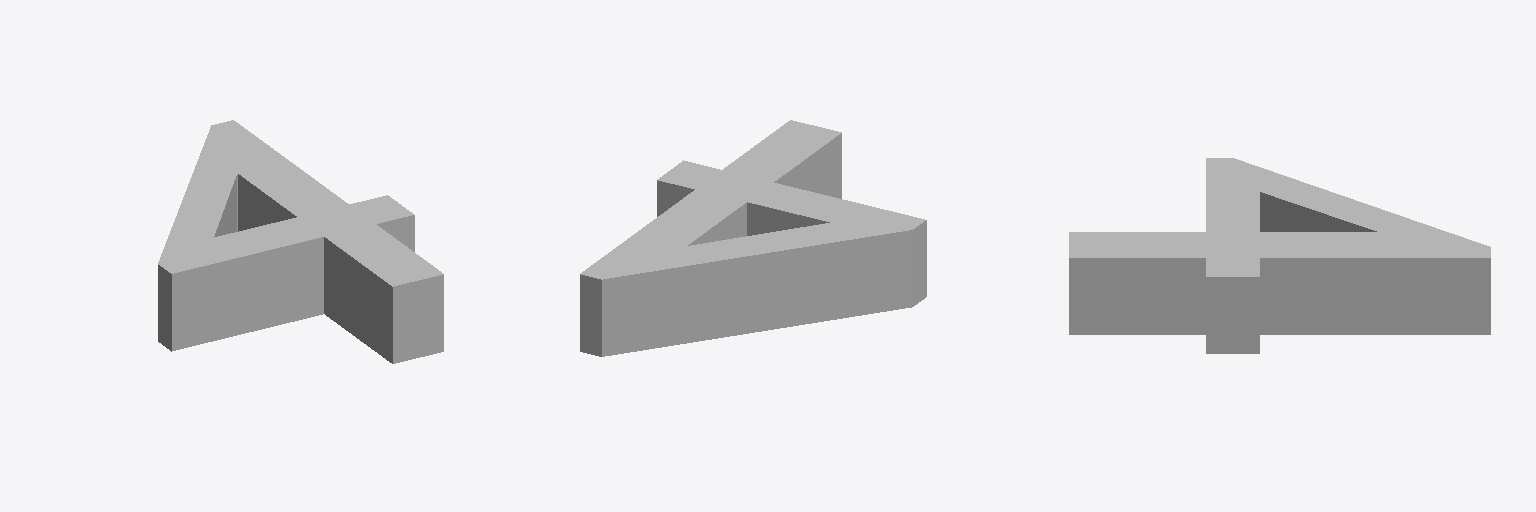
The model's file is Number_4.obj.
3 renders of one model, left to right at view 1: azimuth 30°, elevation 25°; view 2: azimuth 150°, elevation 25°; view 3: azimuth 270°, elevation 25°, orthographic.
Visible parts, largest first — view 1: Text; view 2: Text; view 3: Text.
Part boxes in pixels (bbox=[...]): Text: bbox=[158, 120, 443, 363]; Text: bbox=[580, 120, 926, 356]; Text: bbox=[1069, 158, 1490, 353].
Size of the model in its own units: 0.46 by 0.14 by 0.691.